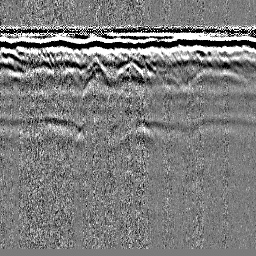cavity: (115, 59, 145, 82)
